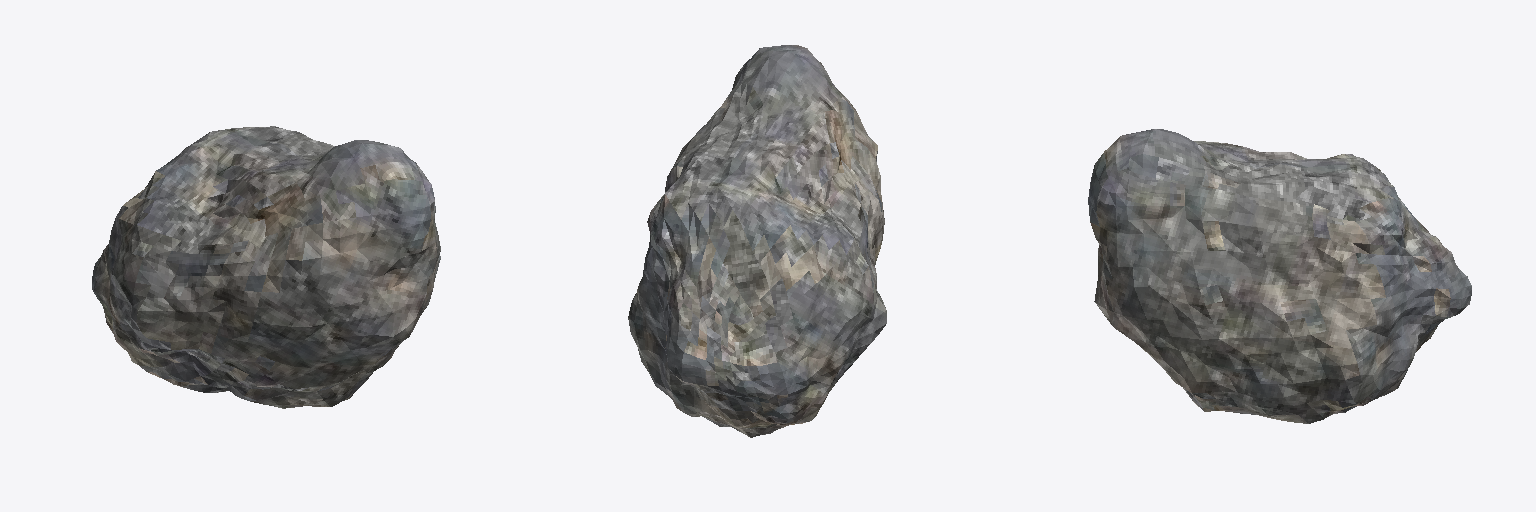
3 views of the same model, side by side, from view 1: azimuth 30°, elevation 25°; view 2: azimuth 150°, elevation 25°; view 3: azimuth 270°, elevation 25° (orthographic).
Parts seen in each view (by area): view 1: Cube; view 2: Cube; view 3: Cube.
Boxes of the visible parts, <box> form: Cube: <box>92,126,440,408</box>; Cube: <box>628,45,886,437</box>; Cube: <box>1088,129,1471,423</box>.
Bounding box in the file's own units: 55.6 × 65.89 × 77.33.
1 materials, 1 textured.